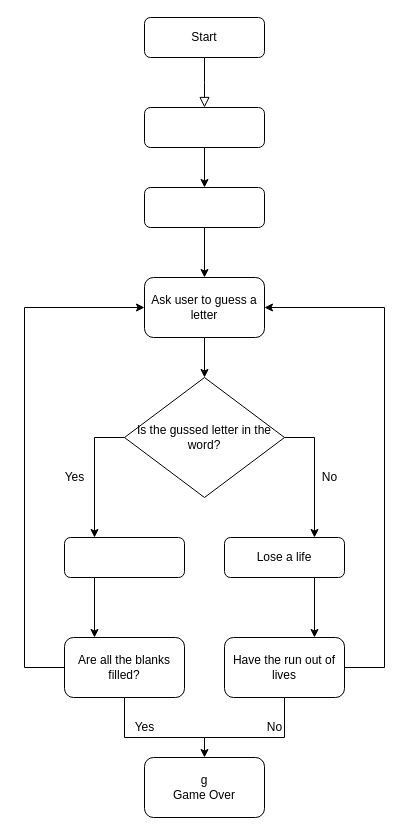
This 410x835 diagram has some shape labels left out. Each missing label, with the box of its shape:
Generate a random Word: (144, 106, 264, 148)
Generate as many blanks as letters word: (144, 186, 264, 228)
Reaplace the blank: (64, 536, 184, 578)
